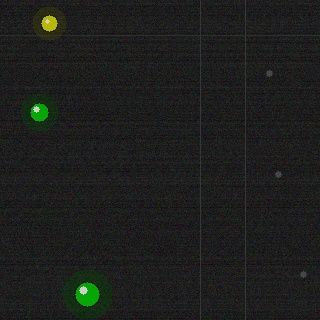green_normal: (73, 280, 101, 308), (28, 101, 50, 123)
yellow_warning: (39, 13, 59, 33)
